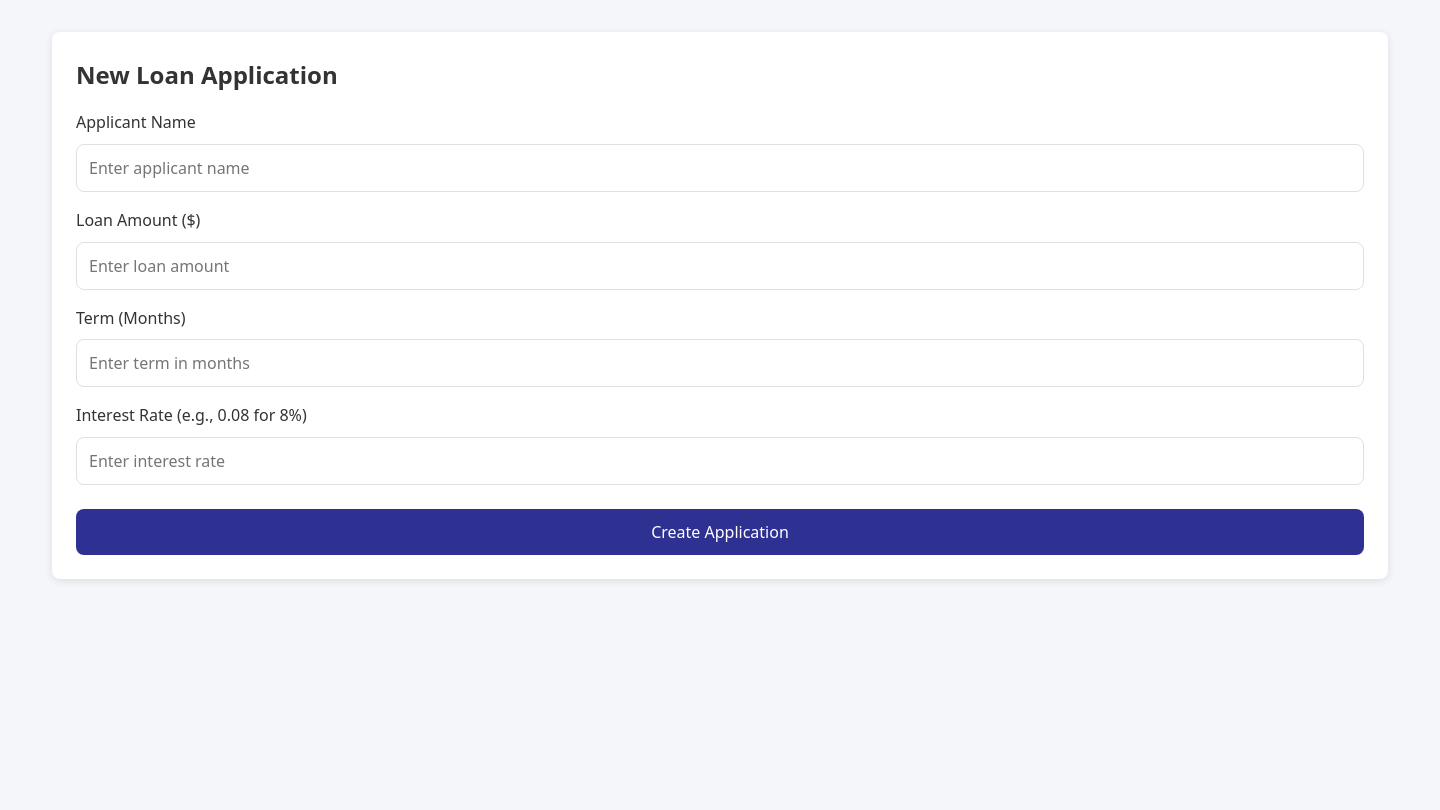
Scenario: LoanForm › validation › shows error when amount is empty or zero
Type "John Doe" into the field with id "applicantName" at (720, 168), box [76, 144, 1364, 192]
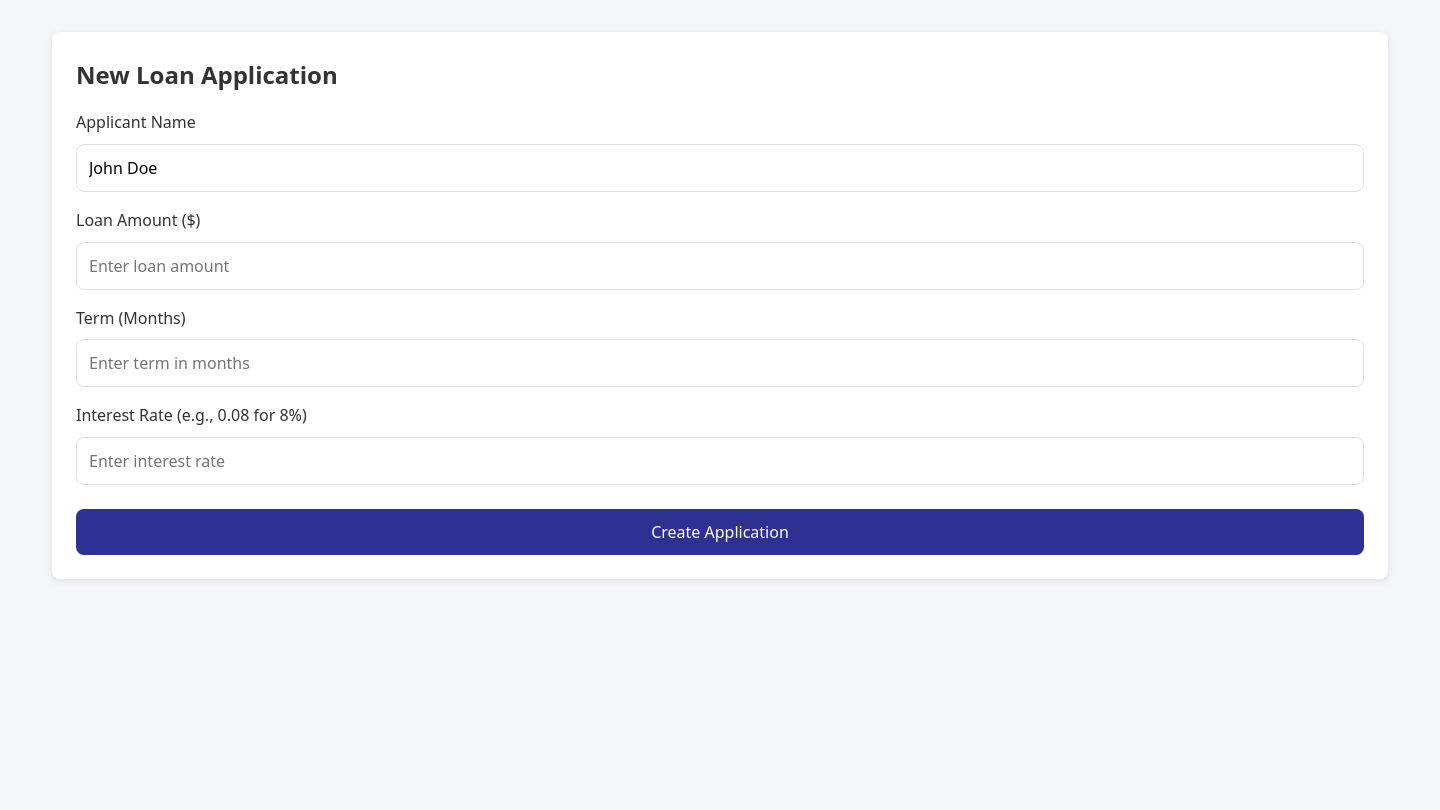
Submit the form, box [76, 110, 1364, 555]
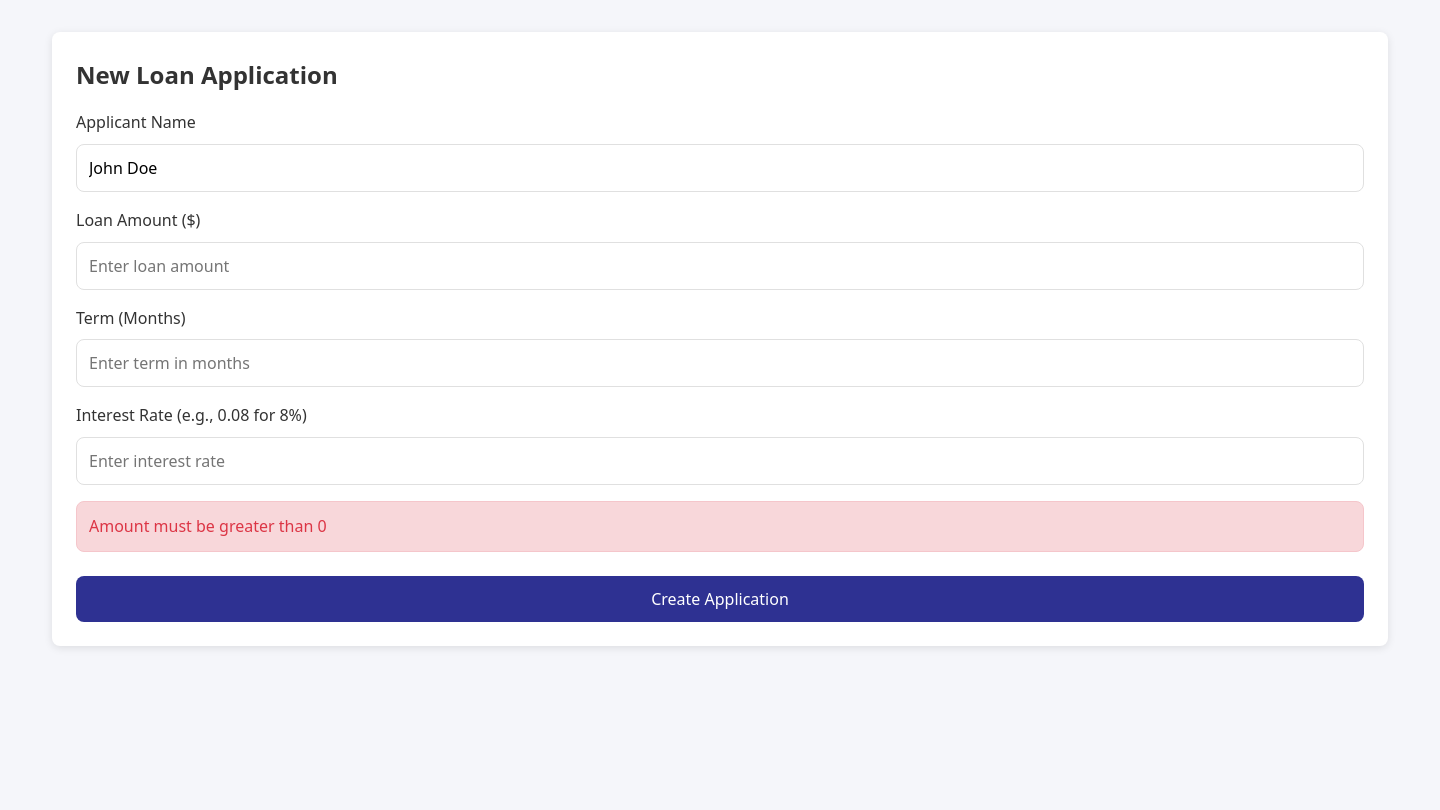
Now the text with class "error-message" reads "Amount must be greater than 0", box [89, 515, 327, 537]
